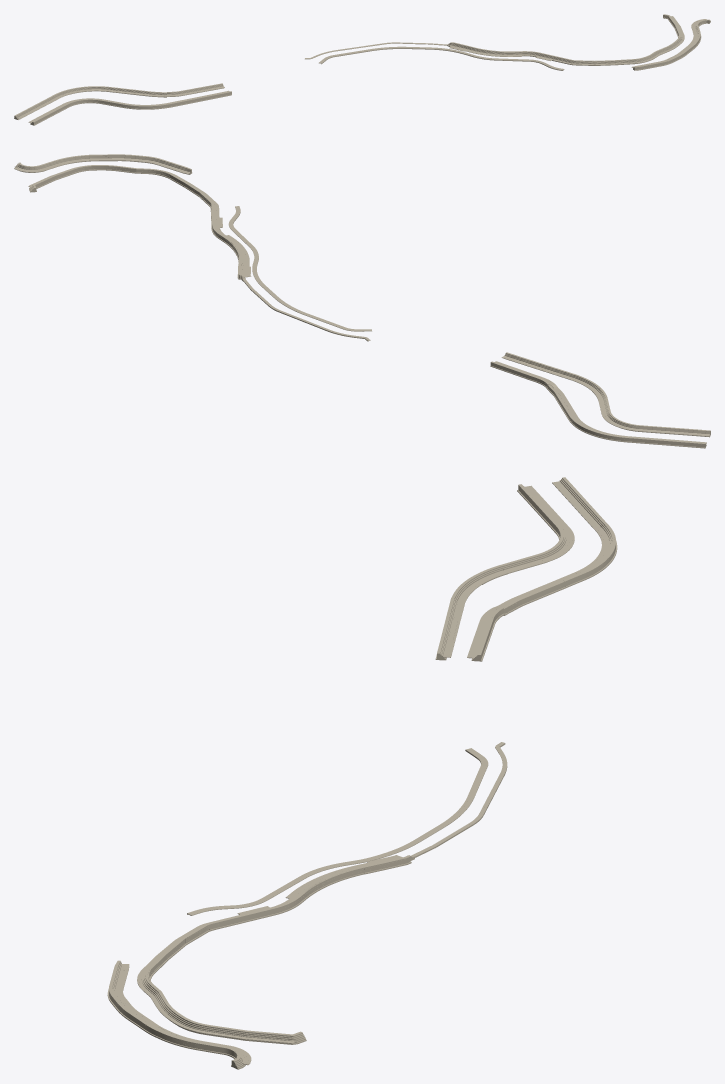
Rendered from 500125-CSSP001-501-XX-MD-ST-003102.glb.
The picture shows the model from 3 angles, top to bottom: view 1: azimuth 30°, elevation 25°; view 2: azimuth 150°, elevation 25°; view 3: azimuth 270°, elevation 25°; orthographic projection. The views are drawn at different scales.
Parts seen in each view (by area): view 1: 500125-CSSP001-501-XX-MD-ST-003102#GAV007, 500125-CSSP001-501-XX-MD-ST-003102#GAV002, 500125-CSSP001-501-XX-MD-ST-003102#GAV001, 500125-CSSP001-501-XX-MD-ST-003102#GAV011, 500125-CSSP001-501-XX-MD-ST-003102#GAV015, 500125-CSSP001-501-XX-MD-ST-003102#GAV019, 500125-CSSP001-501-XX-MD-ST-003102#GAV020, 500125-CSSP001-501-XX-MD-ST-003102#GAV008, 500125-CSSP001-501-XX-MD-ST-003102#GAV014, 500125-CSSP001-501-XX-MD-ST-003102#GAV006, 500125-CSSP001-501-XX-MD-ST-003102#GAV016, 500125-CSSP001-501-XX-MD-ST-003102#GAV005; view 2: 500125-CSSP001-501-XX-MD-ST-003102#GAV001, 500125-CSSP001-501-XX-MD-ST-003102#GAV007, 500125-CSSP001-501-XX-MD-ST-003102#GAV002, 500125-CSSP001-501-XX-MD-ST-003102#GAV019, 500125-CSSP001-501-XX-MD-ST-003102#GAV011, 500125-CSSP001-501-XX-MD-ST-003102#GAV014, 500125-CSSP001-501-XX-MD-ST-003102#GAV016, 500125-CSSP001-501-XX-MD-ST-003102#GAV015; view 3: 500125-CSSP001-501-XX-MD-ST-003102#GAV002, 500125-CSSP001-501-XX-MD-ST-003102#GAV001, 500125-CSSP001-501-XX-MD-ST-003102#GAV011, 500125-CSSP001-501-XX-MD-ST-003102#GAV014, 500125-CSSP001-501-XX-MD-ST-003102#GAV007, 500125-CSSP001-501-XX-MD-ST-003102#GAV015, 500125-CSSP001-501-XX-MD-ST-003102#GAV019, 500125-CSSP001-501-XX-MD-ST-003102#GAV016.
Part boxes in pixels (left/top/right/bottom): 500125-CSSP001-501-XX-MD-ST-003102#GAV007: left=148, top=86, right=217, bottom=108; 500125-CSSP001-501-XX-MD-ST-003102#GAV002: left=62, top=86, right=148, bottom=105; 500125-CSSP001-501-XX-MD-ST-003102#GAV001: left=26, top=91, right=94, bottom=121; 500125-CSSP001-501-XX-MD-ST-003102#GAV011: left=440, top=42, right=515, bottom=61; 500125-CSSP001-501-XX-MD-ST-003102#GAV015: left=514, top=52, right=592, bottom=70; 500125-CSSP001-501-XX-MD-ST-003102#GAV019: left=648, top=41, right=698, bottom=66; 500125-CSSP001-501-XX-MD-ST-003102#GAV020: left=613, top=55, right=659, bottom=70; 500125-CSSP001-501-XX-MD-ST-003102#GAV008: left=357, top=42, right=429, bottom=52; 500125-CSSP001-501-XX-MD-ST-003102#GAV014: left=670, top=17, right=710, bottom=43; 500125-CSSP001-501-XX-MD-ST-003102#GAV006: left=111, top=102, right=165, bottom=109; 500125-CSSP001-501-XX-MD-ST-003102#GAV016: left=656, top=24, right=697, bottom=51; 500125-CSSP001-501-XX-MD-ST-003102#GAV005: left=305, top=47, right=363, bottom=64; 500125-CSSP001-501-XX-MD-ST-003102#GAV001: left=605, top=416, right=694, bottom=446; 500125-CSSP001-501-XX-MD-ST-003102#GAV007: left=508, top=357, right=581, bottom=394; 500125-CSSP001-501-XX-MD-ST-003102#GAV002: left=558, top=394, right=615, bottom=440; 500125-CSSP001-501-XX-MD-ST-003102#GAV019: left=81, top=154, right=164, bottom=174; 500125-CSSP001-501-XX-MD-ST-003102#GAV011: left=229, top=236, right=260, bottom=280; 500125-CSSP001-501-XX-MD-ST-003102#GAV014: left=14, top=155, right=82, bottom=186; 500125-CSSP001-501-XX-MD-ST-003102#GAV016: left=50, top=155, right=139, bottom=182; 500125-CSSP001-501-XX-MD-ST-003102#GAV015: left=203, top=194, right=243, bottom=236; 500125-CSSP001-501-XX-MD-ST-003102#GAV002: left=510, top=534, right=617, bottom=598; 500125-CSSP001-501-XX-MD-ST-003102#GAV001: left=525, top=490, right=614, bottom=556; 500125-CSSP001-501-XX-MD-ST-003102#GAV011: left=279, top=847, right=408, bottom=894; 500125-CSSP001-501-XX-MD-ST-003102#GAV014: left=160, top=1031, right=285, bottom=1069; 500125-CSSP001-501-XX-MD-ST-003102#GAV007: left=440, top=594, right=518, bottom=645; 500125-CSSP001-501-XX-MD-ST-003102#GAV015: left=177, top=888, right=282, bottom=939; 500125-CSSP001-501-XX-MD-ST-003102#GAV019: left=107, top=982, right=165, bottom=1037; 500125-CSSP001-501-XX-MD-ST-003102#GAV016: left=156, top=991, right=253, bottom=1038.
Bounding box in the file's own units: 1203 × 19.3 × 431.
